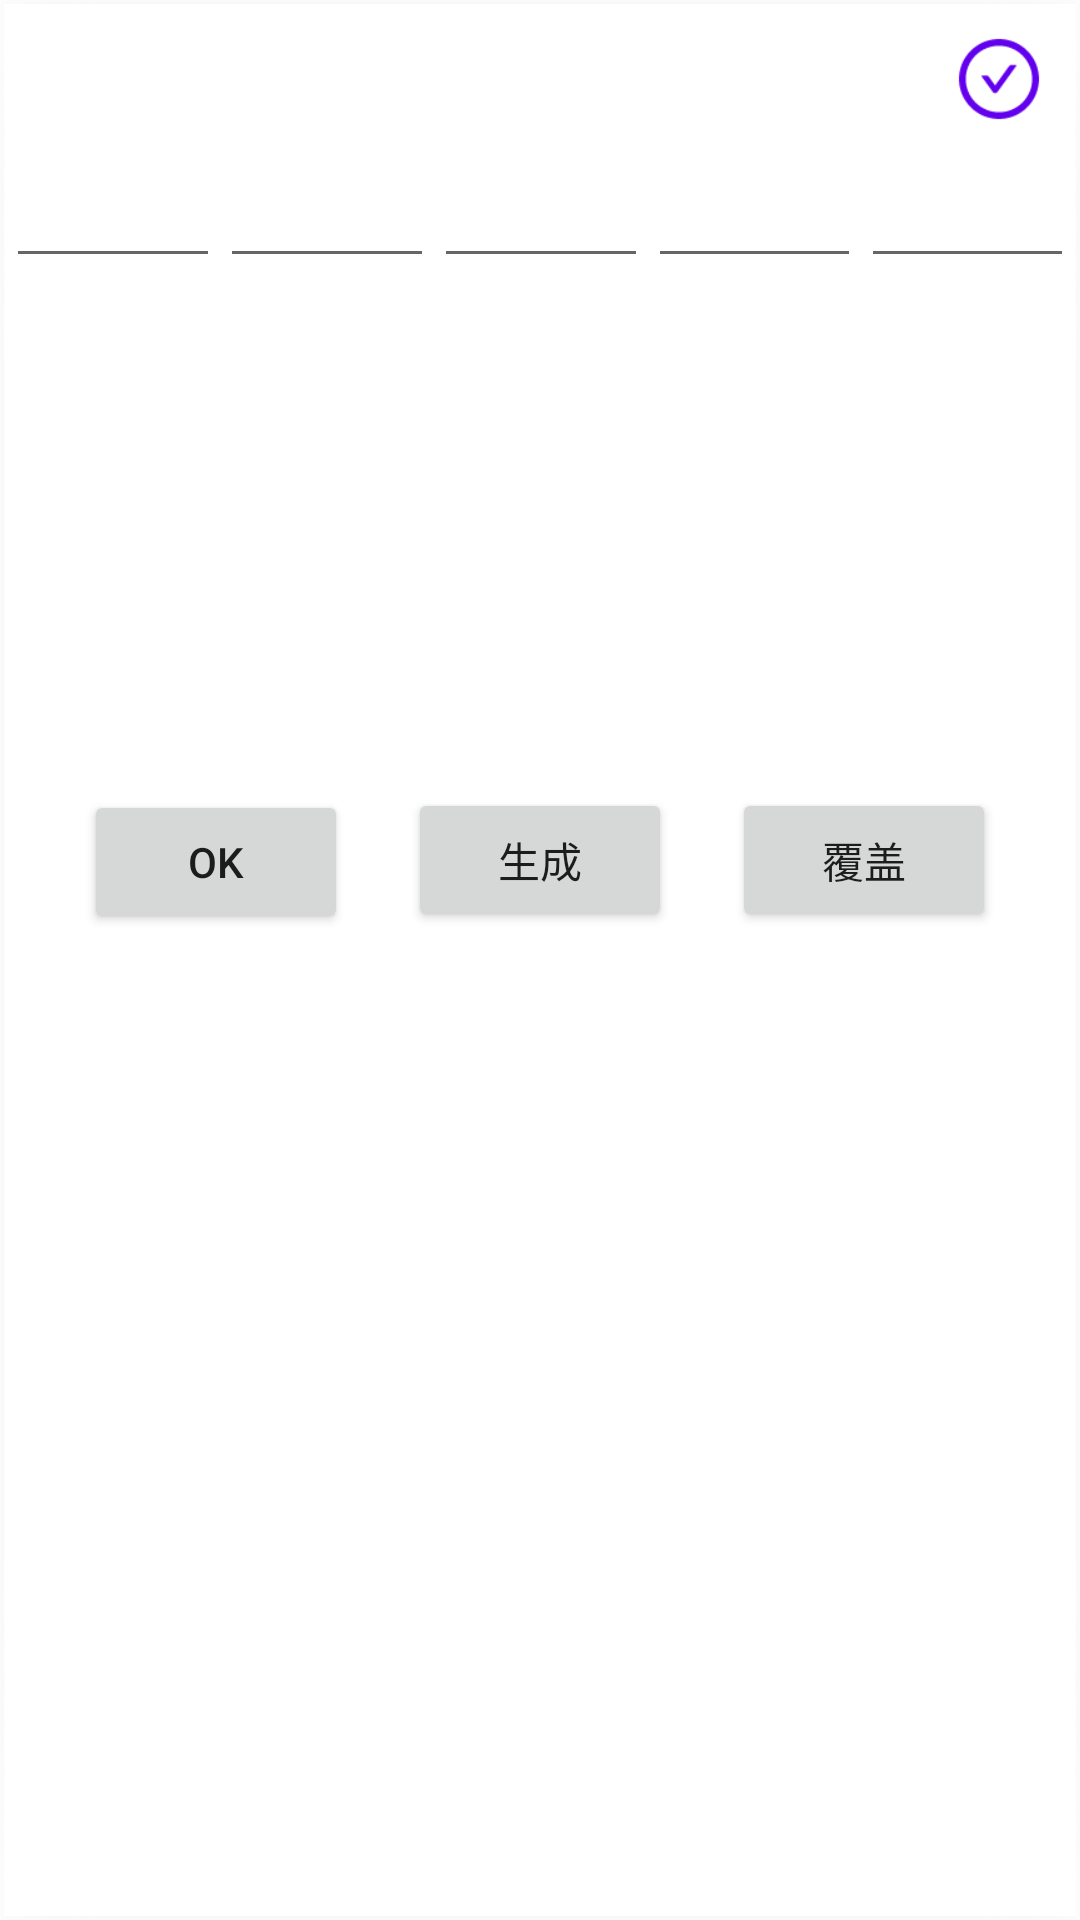

Where icons sit on this 1080 x 1920 app screen, as {"left": x1, "top": y1, "right": x2, "bottom": y2}:
done: {"left": 958, "top": 38, "right": 1040, "bottom": 120}
